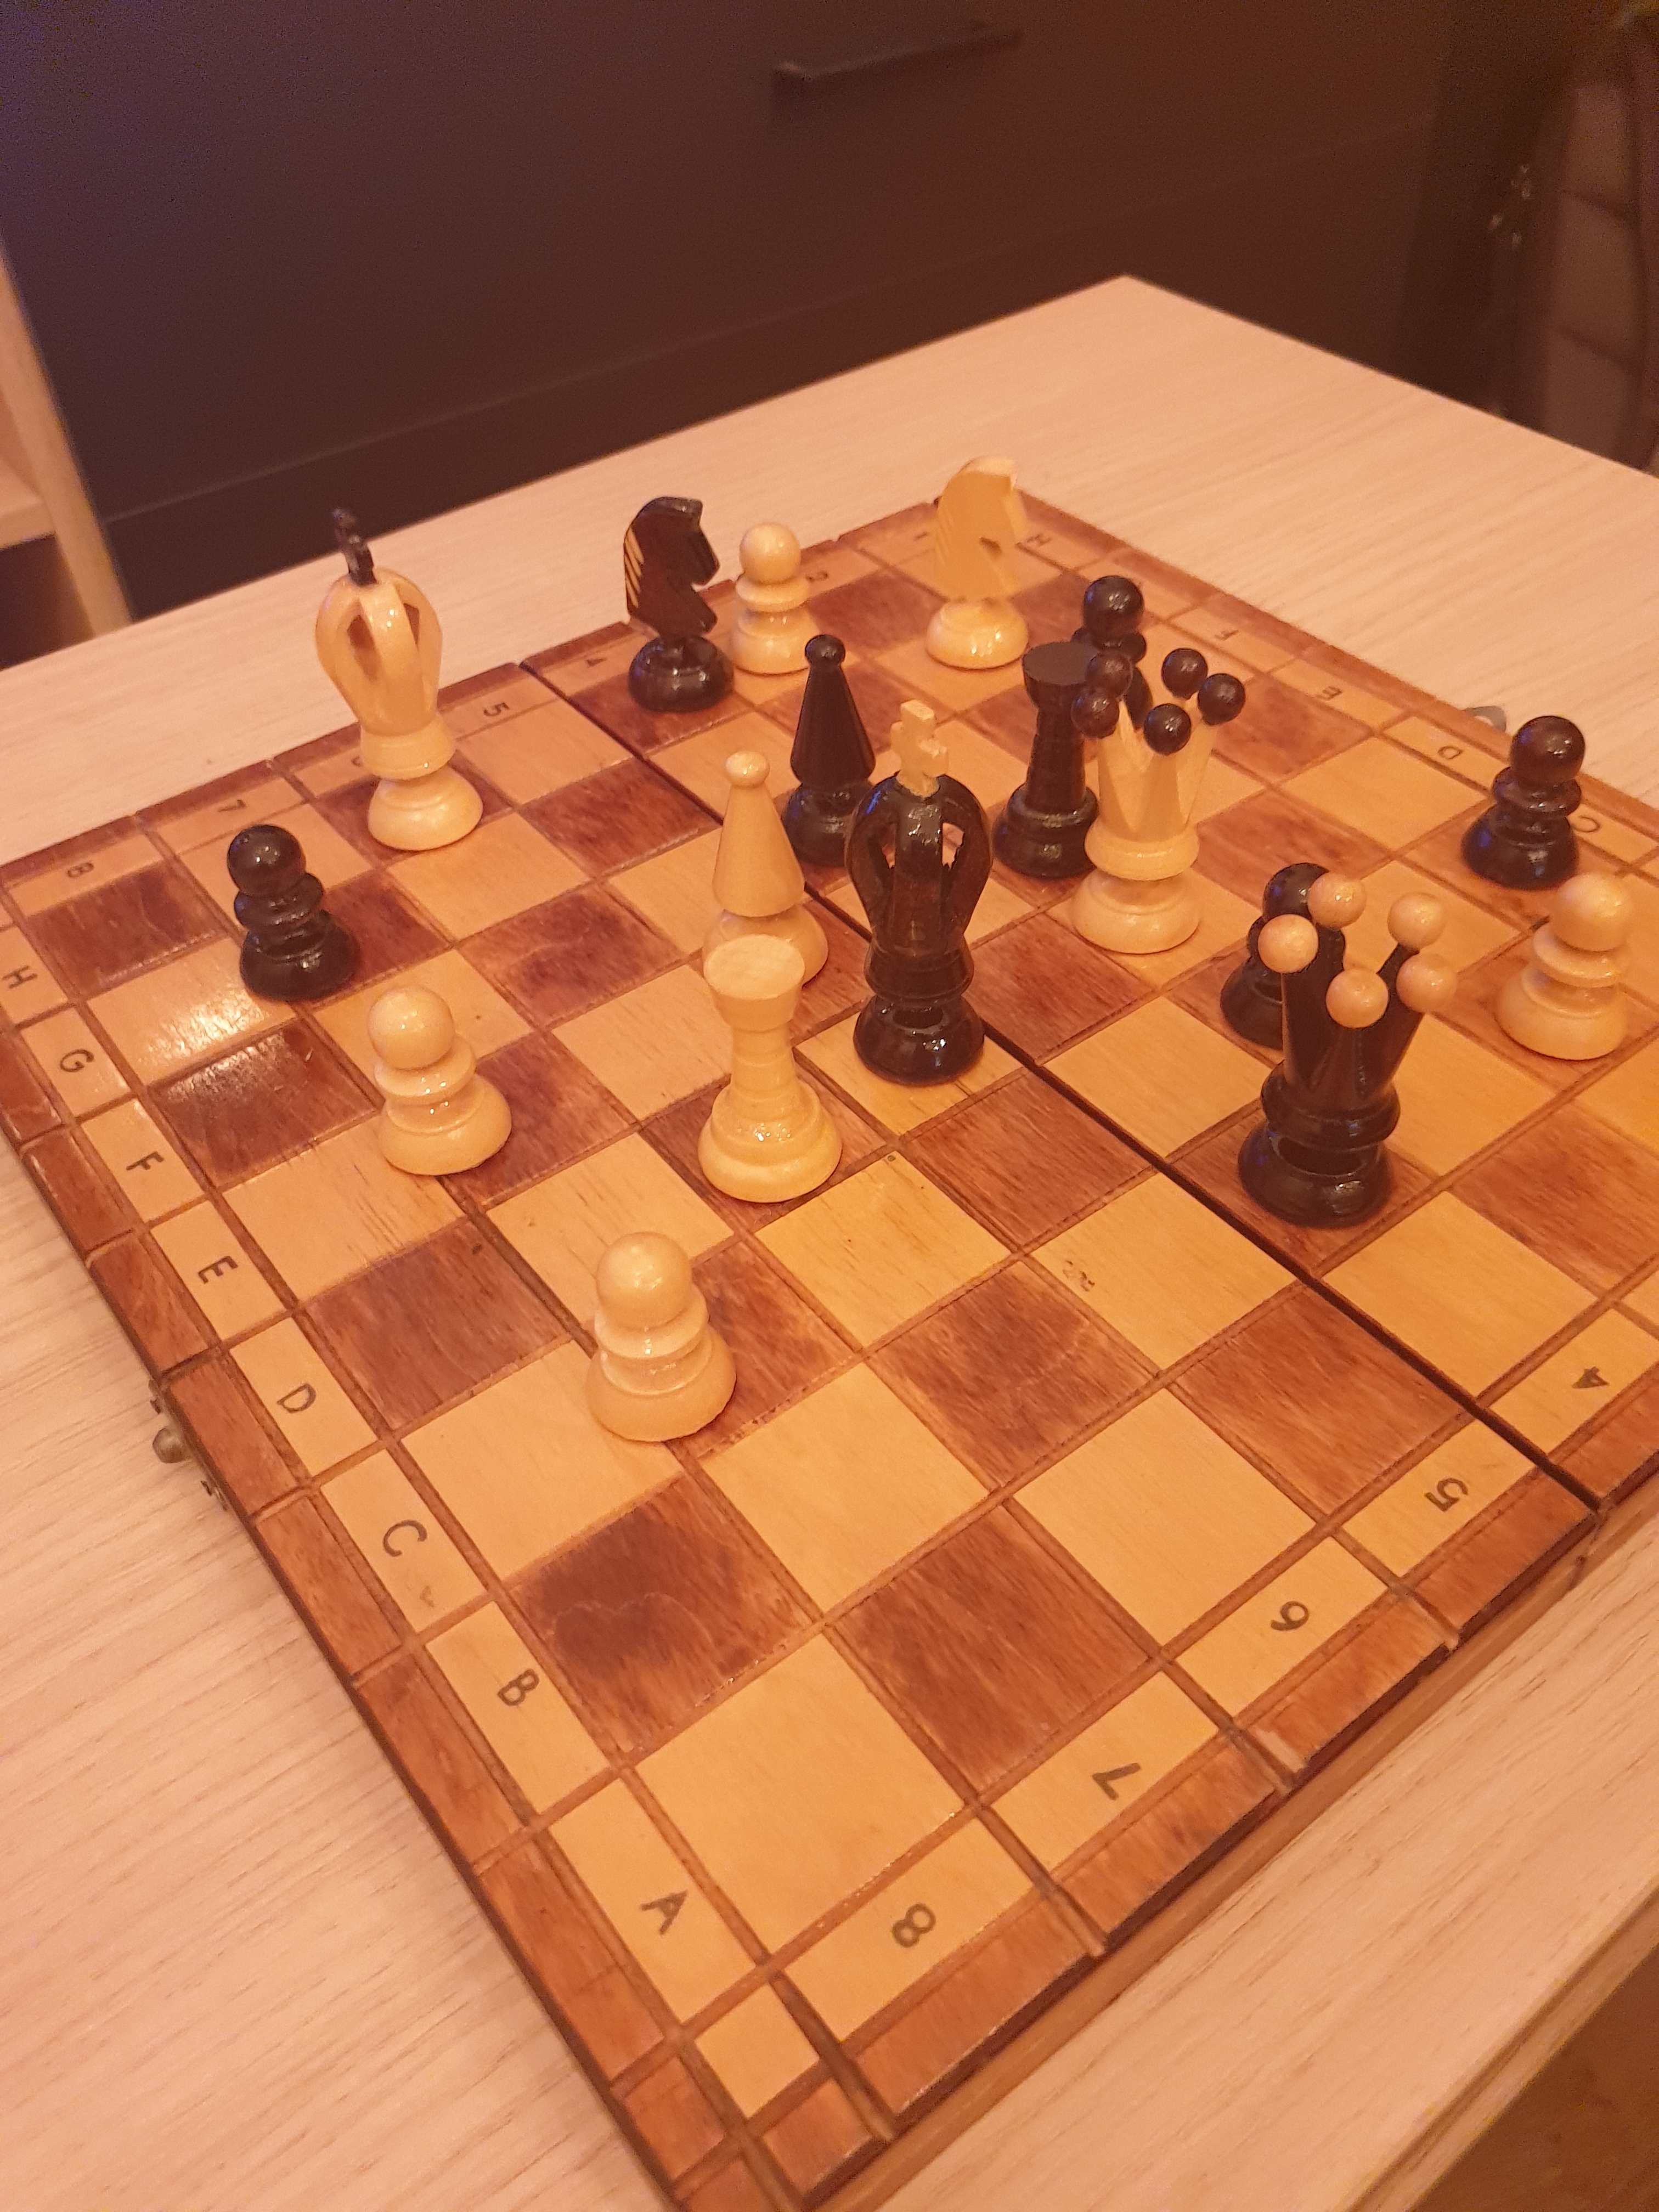bbishop: (772, 618, 917, 883)
bking: (826, 690, 1016, 1108)
bknight: (615, 488, 741, 716)
bpawn: (1448, 698, 1607, 916), (213, 812, 375, 1015), (1206, 846, 1358, 1061), (1058, 566, 1166, 744)
bqueen: (1232, 867, 1473, 1245)
brook: (986, 629, 1117, 892)
wbishop: (695, 737, 836, 1008)
wking: (301, 502, 504, 866)
wknight: (917, 449, 1044, 679)
wpawn: (572, 1224, 753, 1460), (352, 981, 535, 1193), (1485, 853, 1647, 1090), (713, 514, 840, 690)
wqueen: (1060, 639, 1248, 967)
wrook: (692, 927, 850, 1211)
